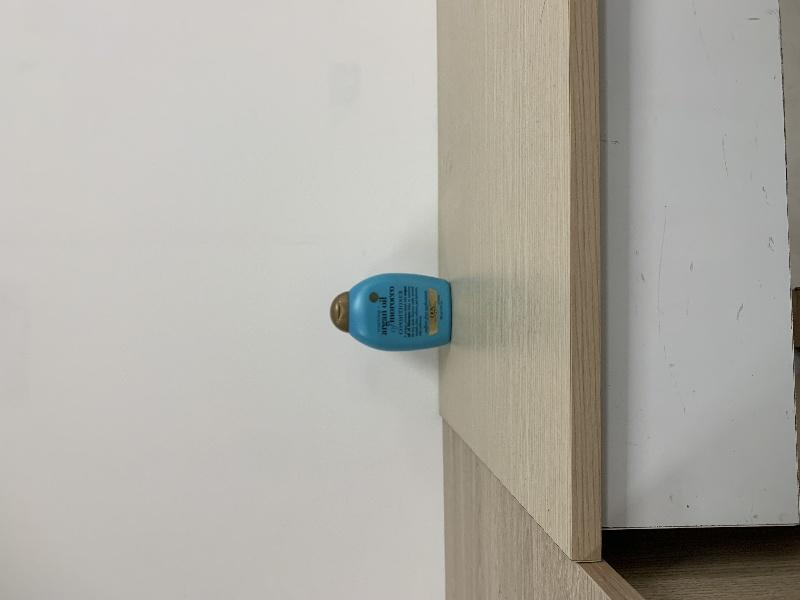ArganOilOfMorocco_Conditioner: (330, 273, 452, 351)
